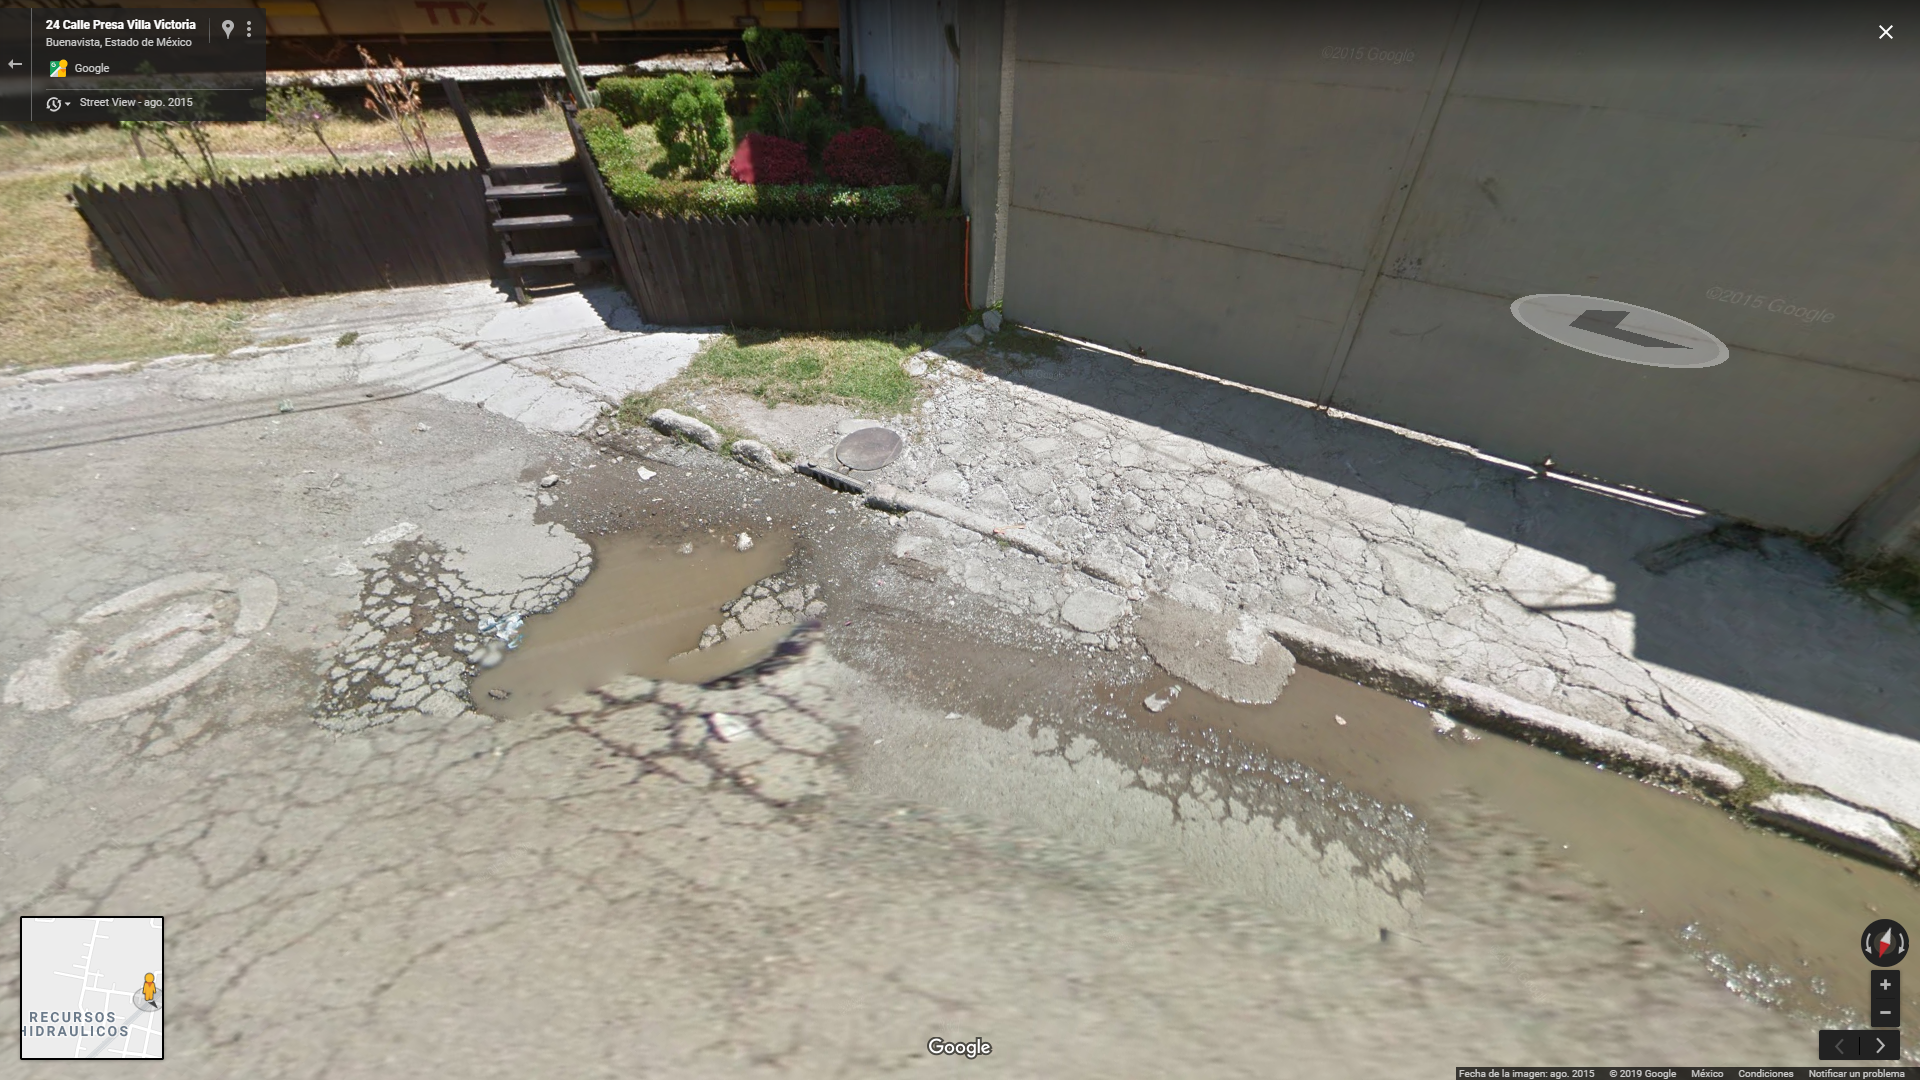pothole: (443, 487, 811, 744)
